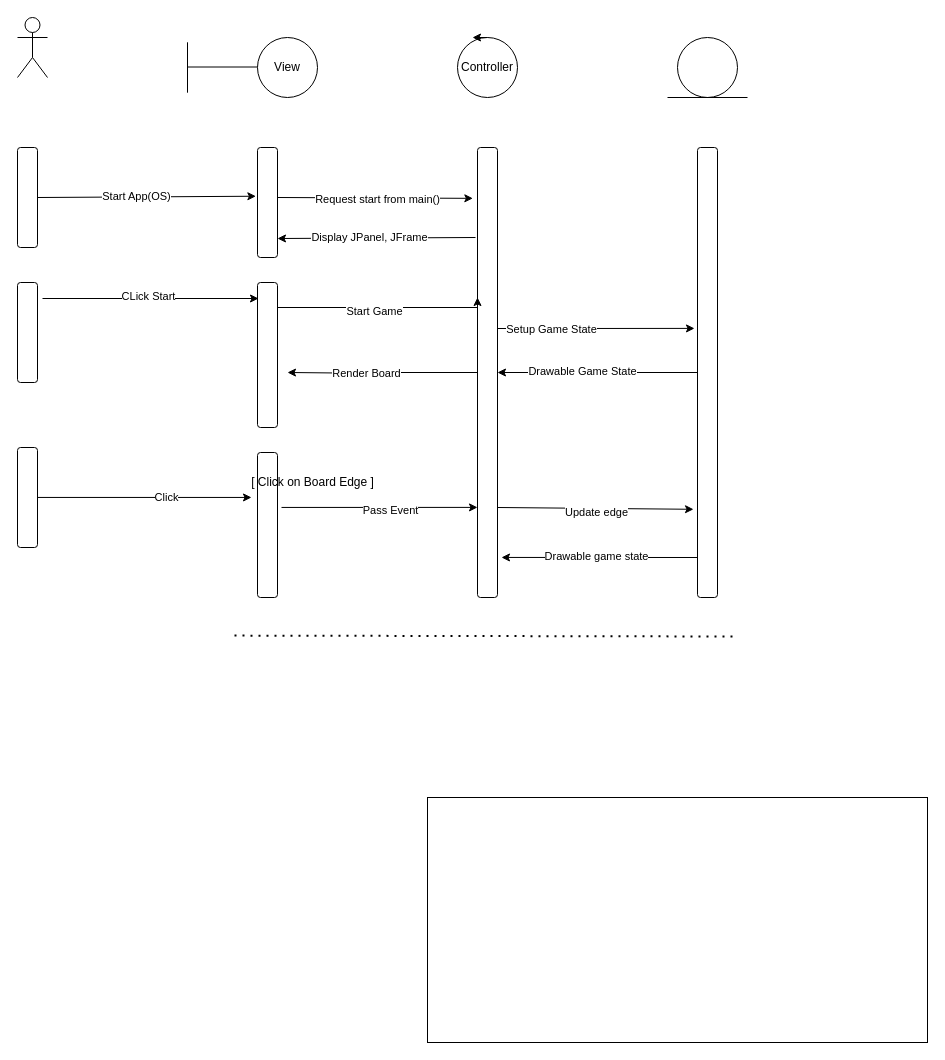
Some shapes in this 945 by 1060 pixel diagram are drawn without their labels. The shapes that lost their labels are listed below. From the top down, each one's box as (x1, y1, x2, y2) in pixels, then its label:
(16, 16, 48, 78): Actor
(676, 36, 738, 98): Model
